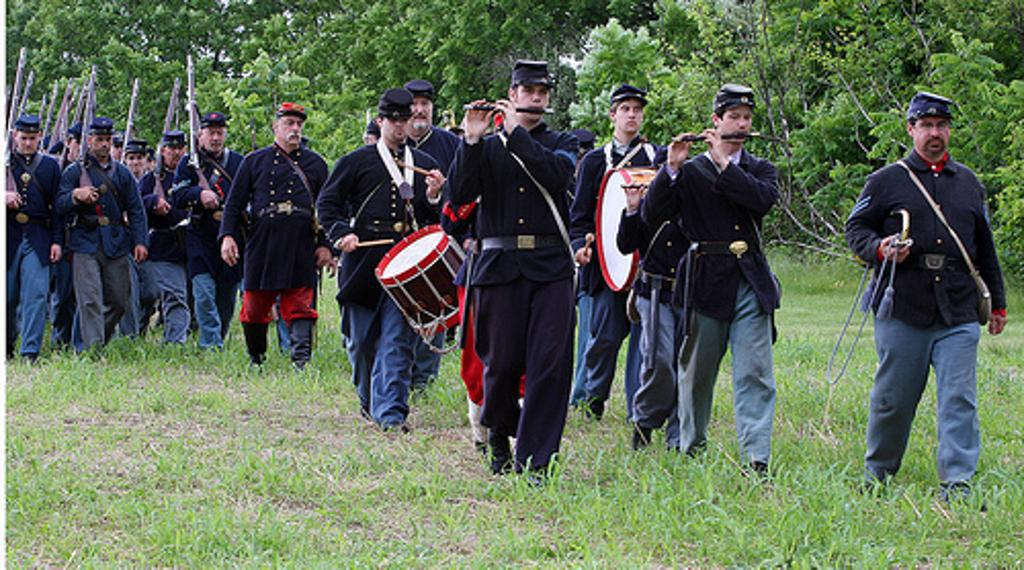face: (913, 114, 949, 157), (719, 99, 753, 144), (515, 80, 550, 121), (405, 93, 434, 130), (615, 95, 644, 132), (278, 114, 303, 146), (382, 112, 407, 141), (17, 129, 39, 156), (204, 125, 225, 153), (92, 133, 113, 158), (69, 134, 88, 160), (164, 144, 184, 165), (126, 152, 145, 173), (114, 141, 127, 157)
